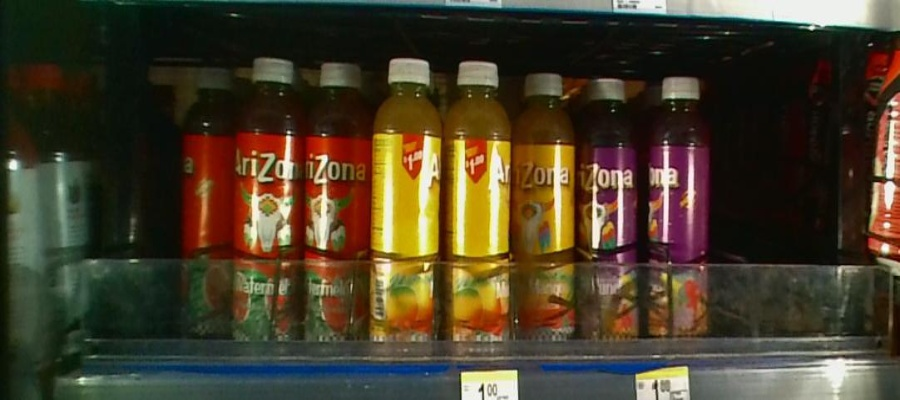bottle: (368, 57, 446, 357), (235, 46, 301, 367), (300, 51, 368, 362), (642, 53, 710, 361), (446, 49, 512, 363), (514, 46, 579, 356), (579, 63, 643, 370), (174, 54, 235, 355)
